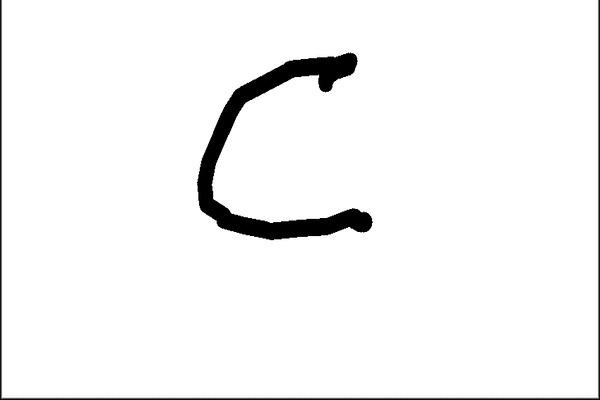C: (193, 45, 376, 241)
